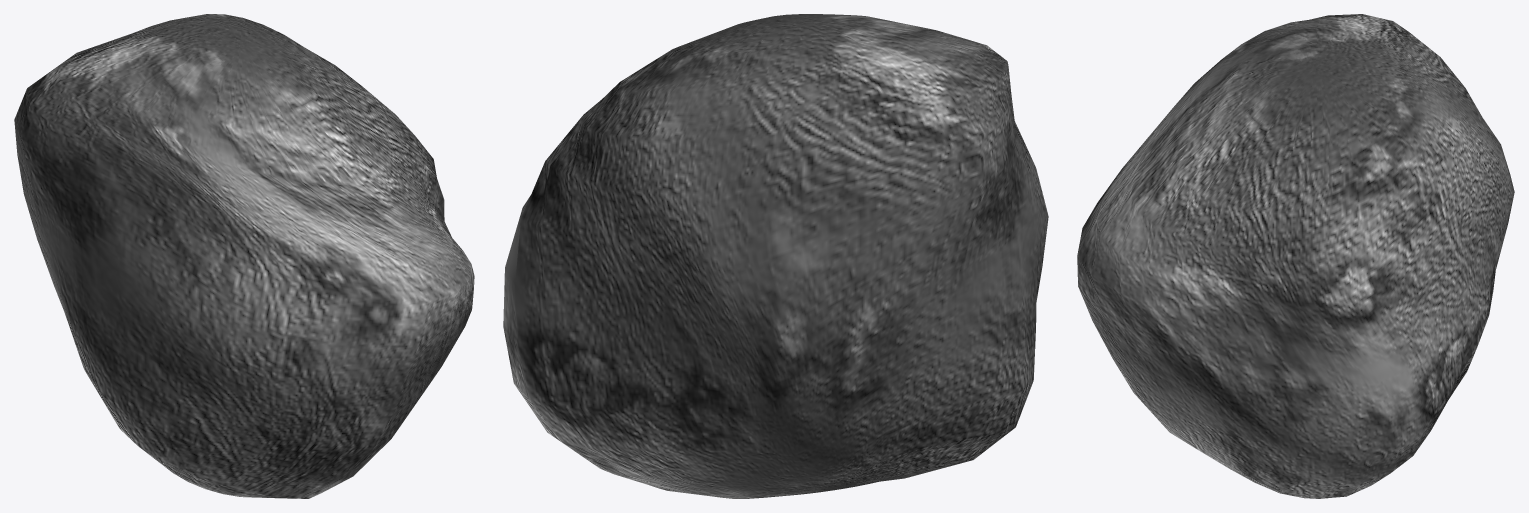
File: Asteroid4.FBX
3 views of the same model, side by side, from view 1: azimuth 30°, elevation 25°; view 2: azimuth 150°, elevation 25°; view 3: azimuth 270°, elevation 25° (orthographic). The views are drawn at different scales.
Parts seen in each view (by area): view 1: Sphere01; view 2: Sphere01; view 3: Sphere01.
Boxes of the visible parts, box(x1,y1,x2,y2) form: Sphere01: box(14, 14, 474, 498); Sphere01: box(503, 14, 1048, 498); Sphere01: box(1077, 14, 1514, 498).
Size of the model in its own units: 107 by 108 by 110.
1 material, 1 textured.
